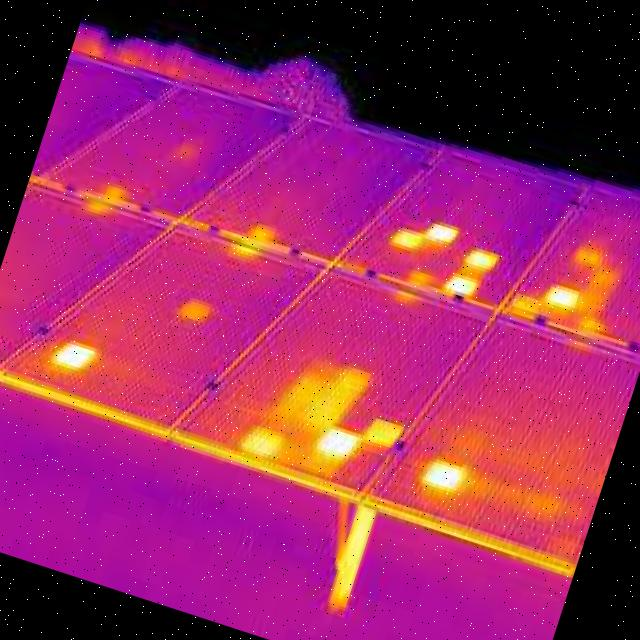Hotspot: (277, 370, 337, 430), (328, 366, 370, 429), (577, 268, 616, 318), (314, 423, 359, 466), (422, 457, 464, 494), (362, 416, 402, 449), (54, 341, 94, 374), (242, 427, 282, 460), (176, 296, 214, 328), (505, 292, 543, 322), (546, 284, 580, 312), (463, 245, 498, 271), (446, 276, 478, 300), (426, 222, 458, 245), (574, 246, 602, 270), (393, 230, 422, 250), (248, 225, 275, 245), (230, 240, 257, 260), (578, 315, 603, 334), (406, 270, 430, 288), (104, 186, 124, 203), (395, 290, 416, 306), (87, 198, 105, 215)
